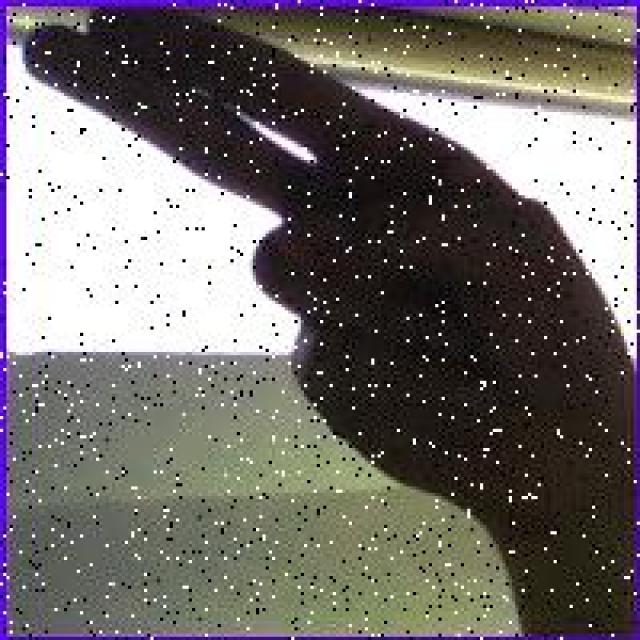H: (19, 5, 624, 533)
